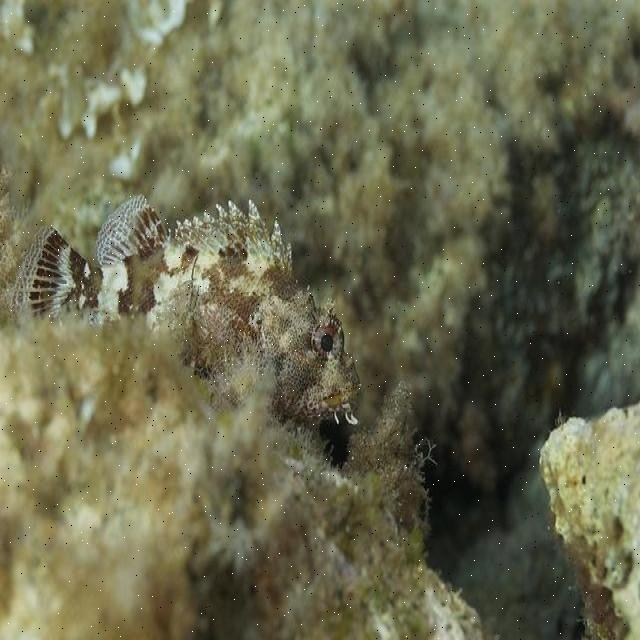fish: (10, 196, 361, 424)
